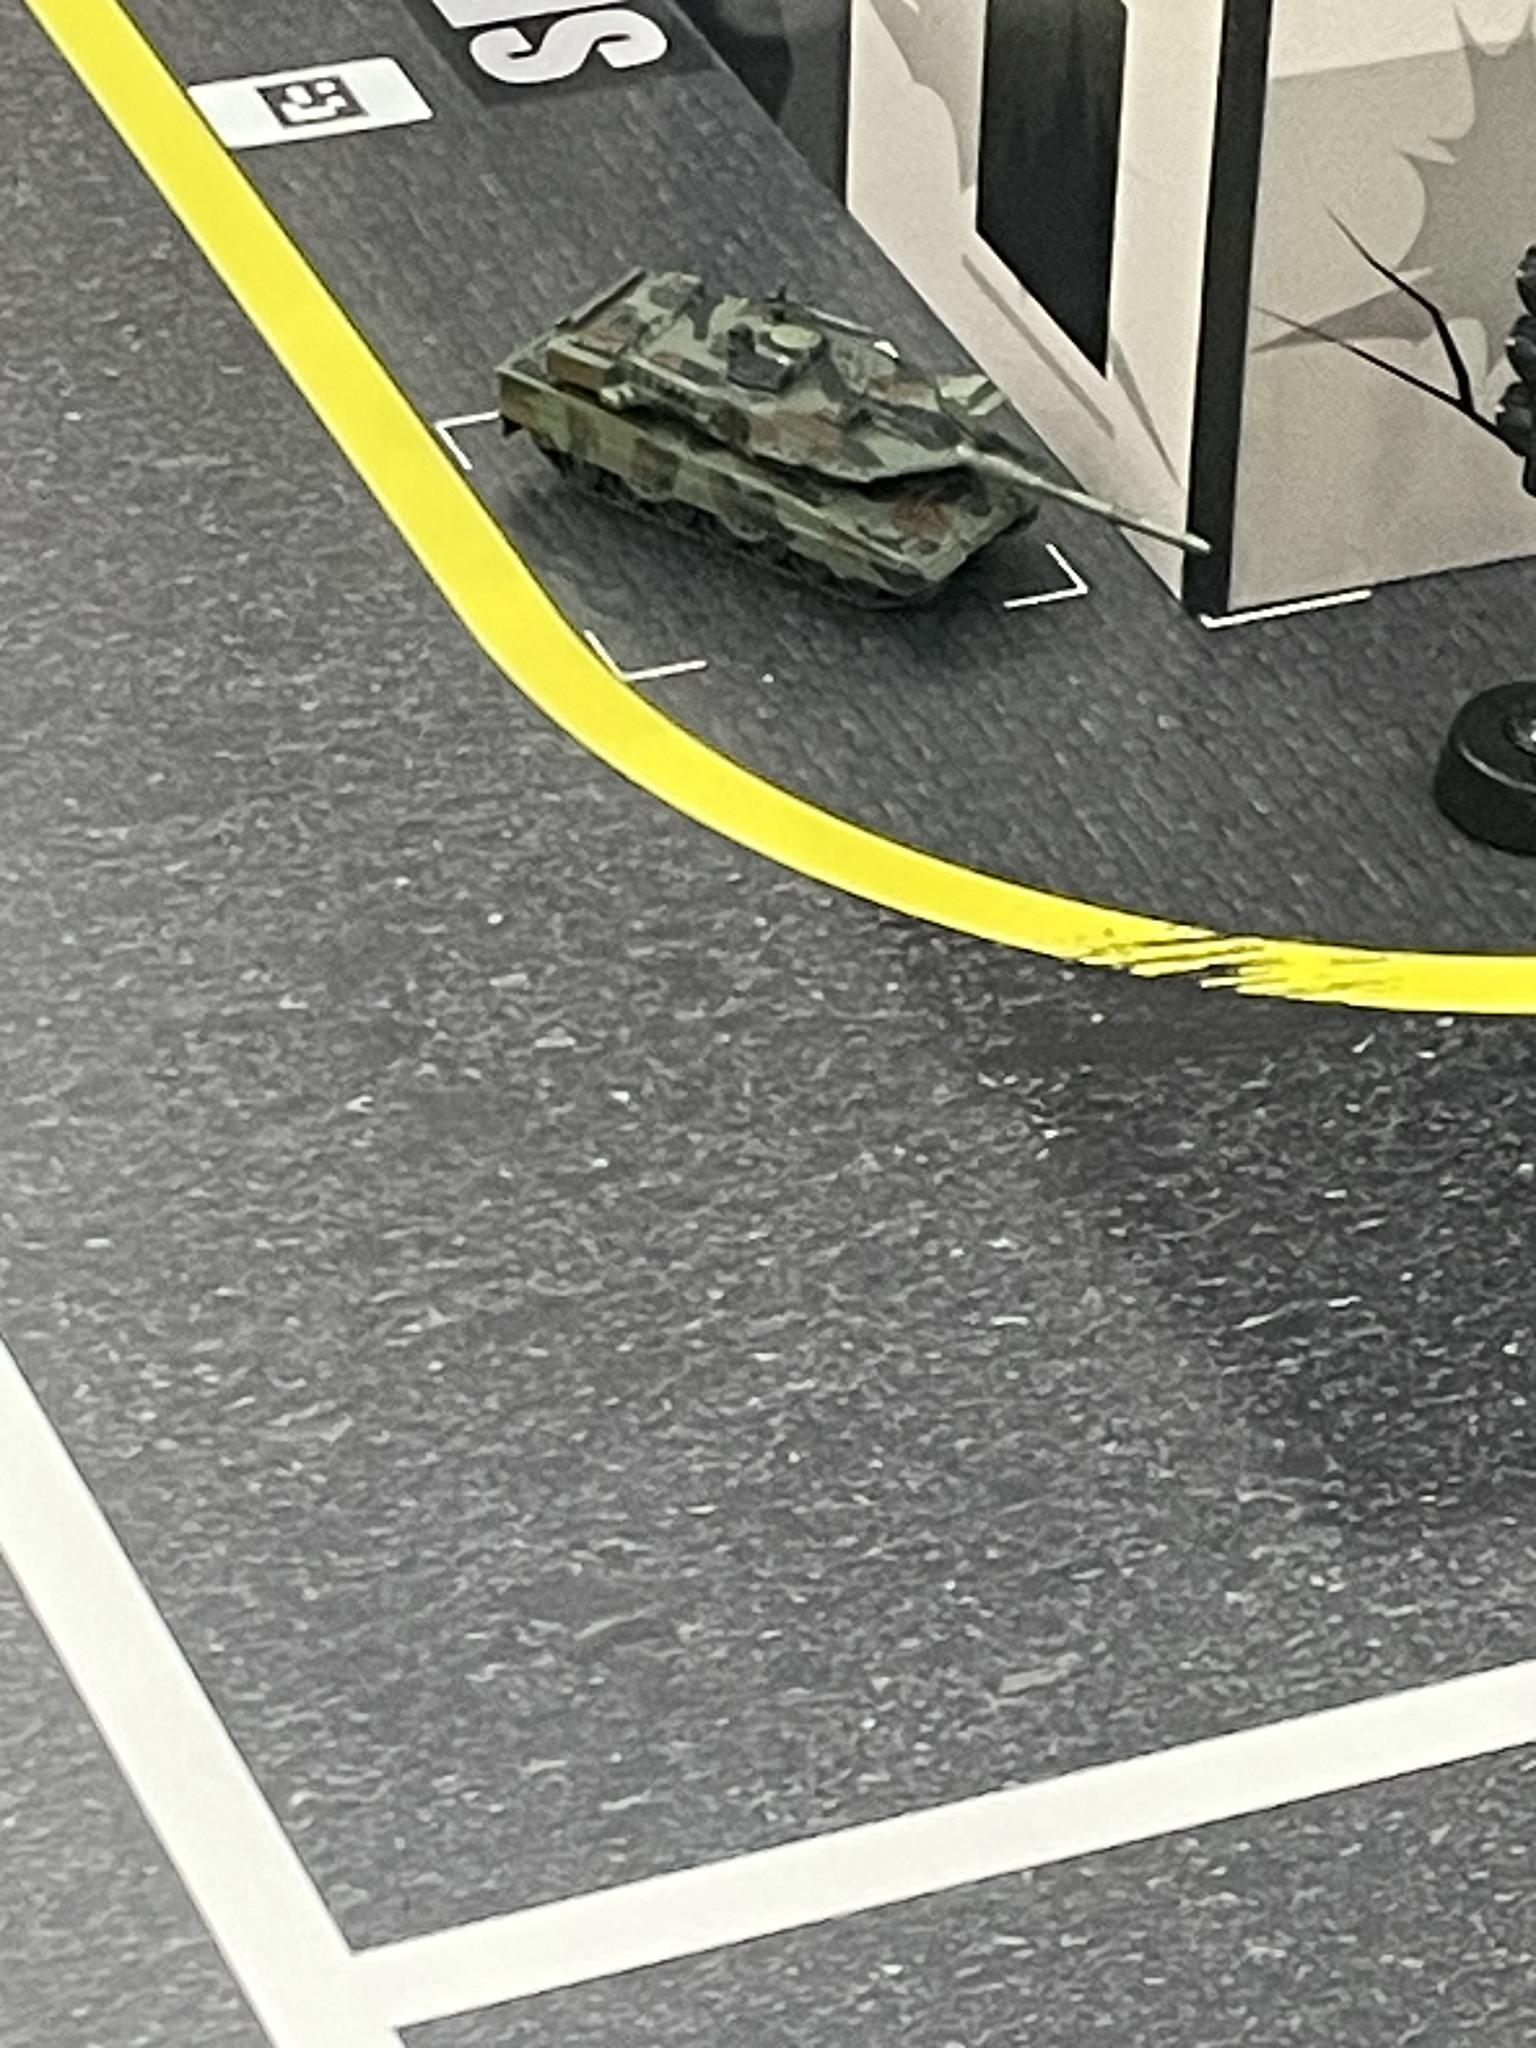Tank: (487, 253, 1225, 624)
